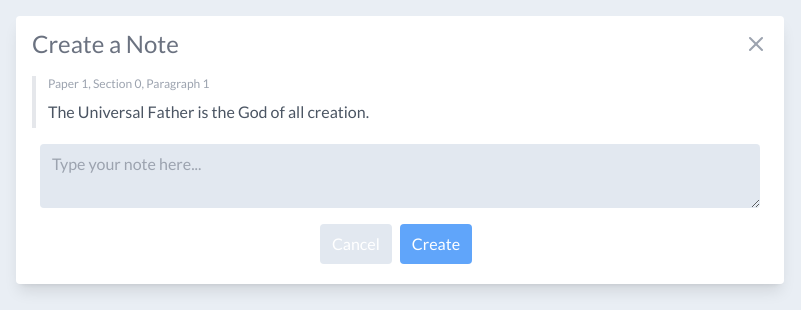
Test: Note › shows Creating... while submitting
Type "My test note" into the text box with placeholder "Type your note here..." at [400, 176], box [40, 144, 760, 208]
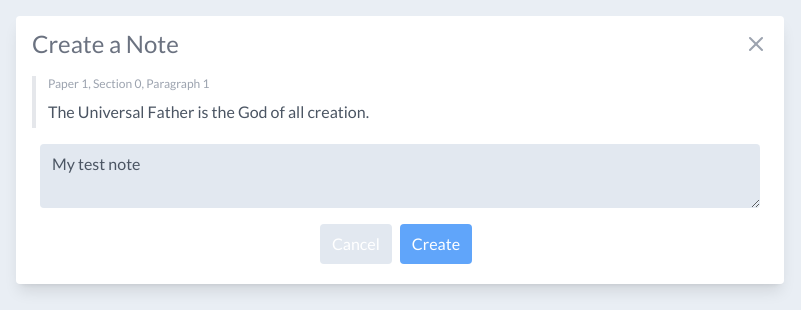
Click the button "Create" at [436, 244], box [400, 224, 472, 264]
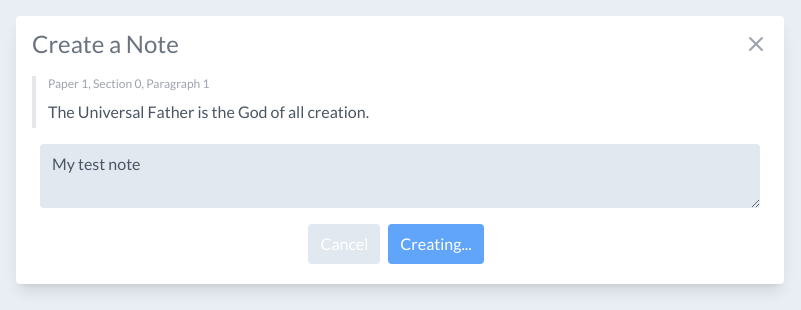
Now the button "Creating..." is shown, box [388, 224, 484, 264]
